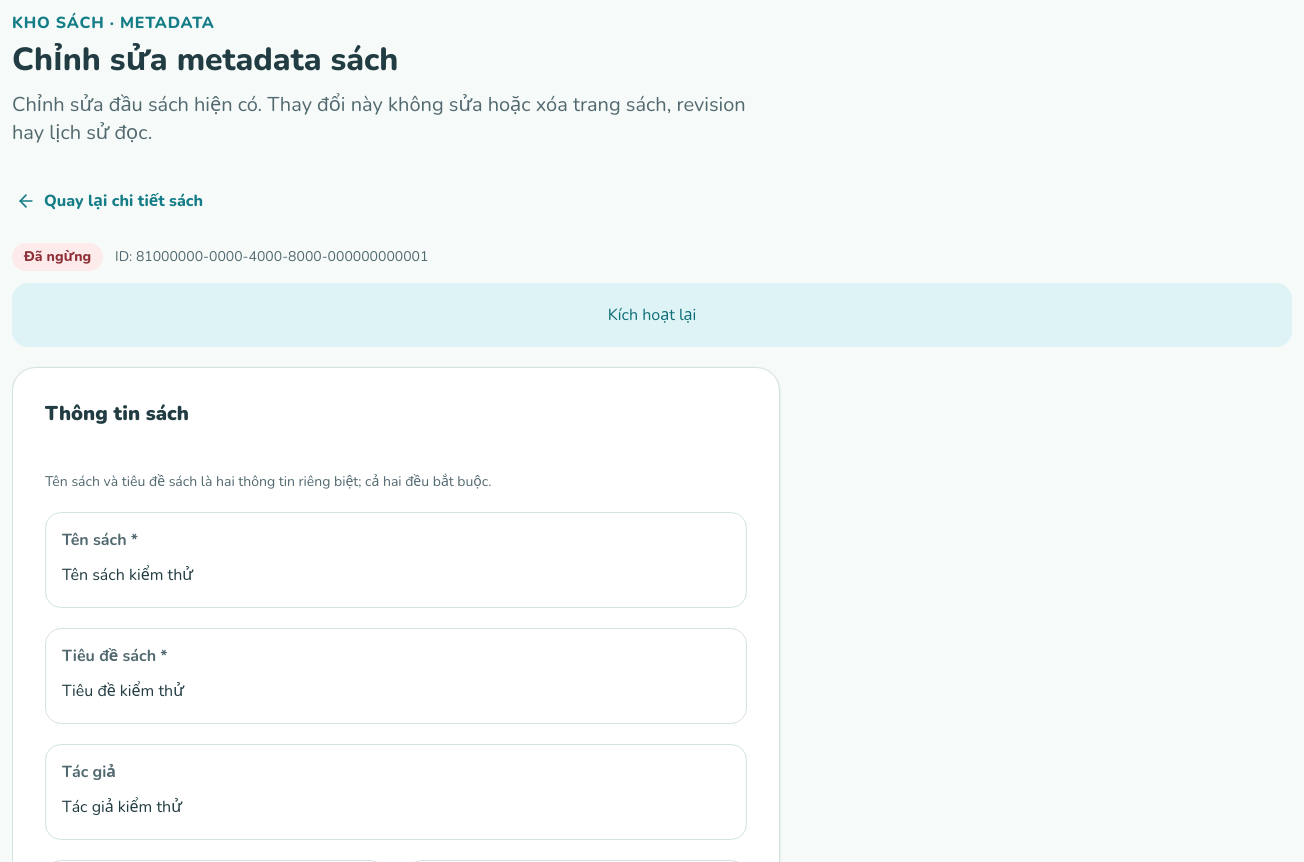
Test case: AdminBookEditorScreen › does not claim reactivation when the backend rejects invalid metadata
Expected: the field labelled "Tiêu đề sách *" is shown, [62,676,730,707]
Click the button "Kích hoạt lại" at point(652, 315), box [12,283,1292,347]
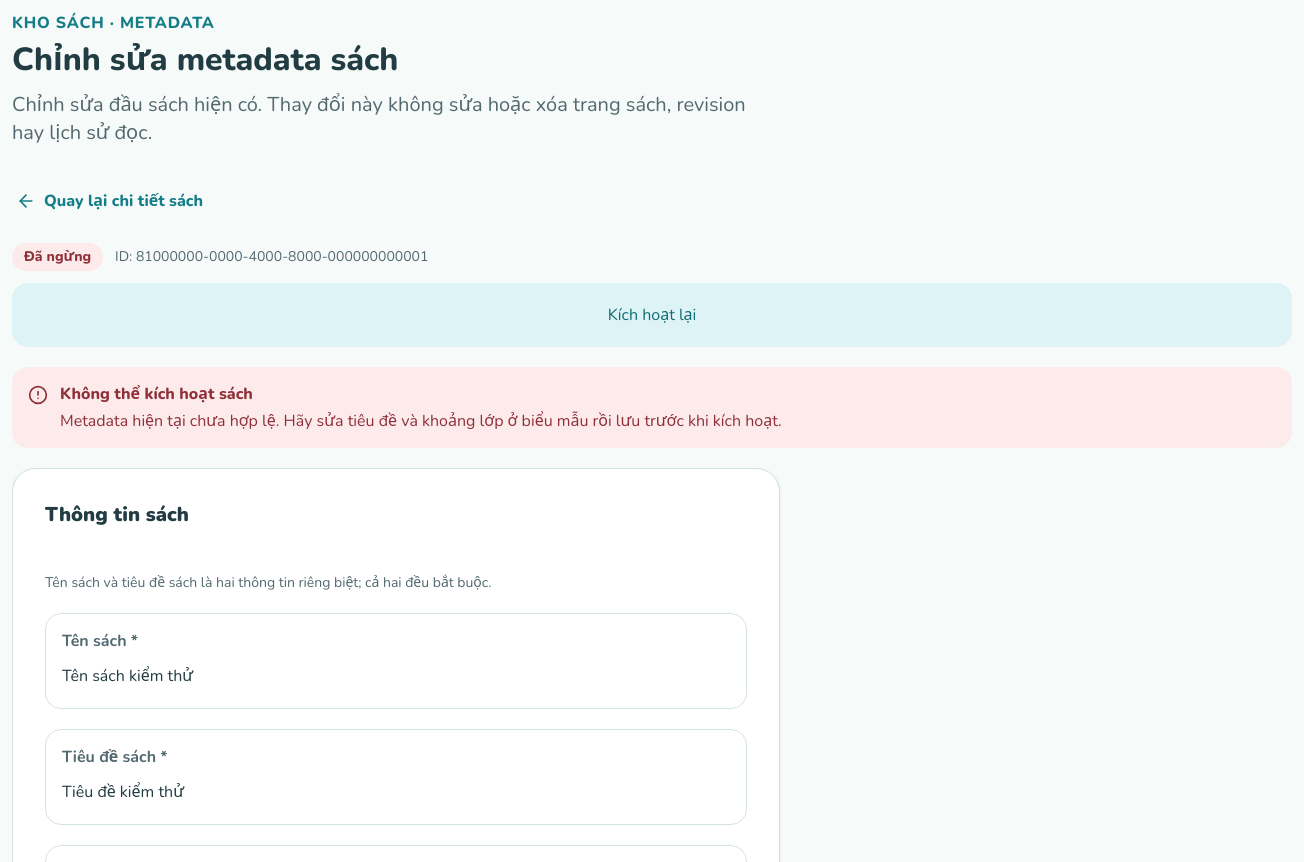
Result: the text "Metadata hiện tại chưa hợp lệ" is shown at [60,410,782,432]
